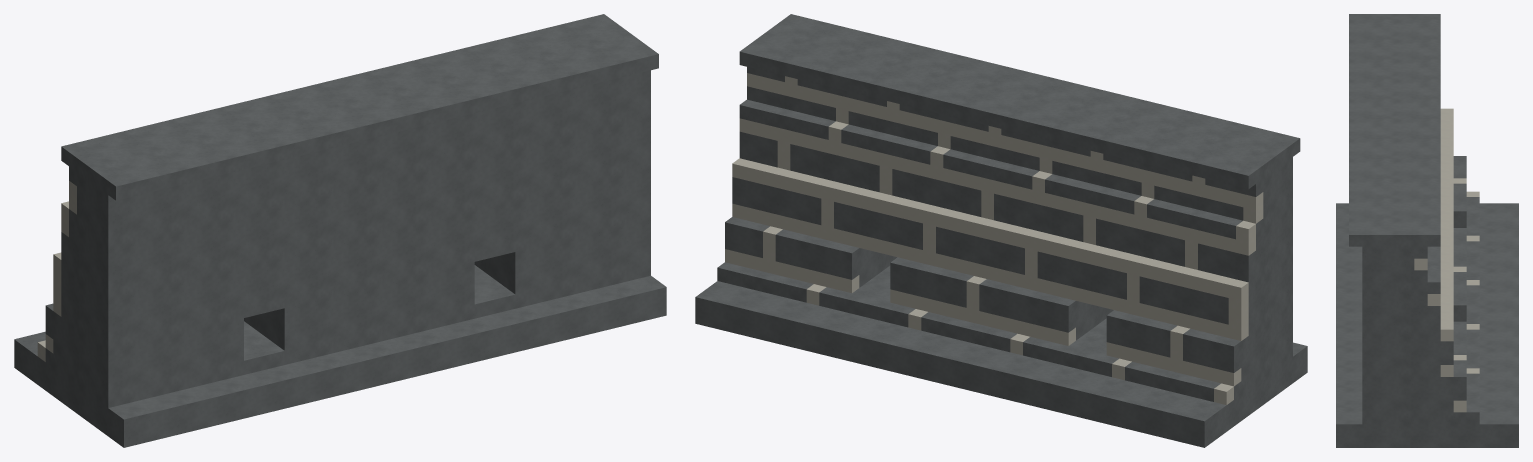
The picture shows the model from 3 angles, left to right: view 1: azimuth 30°, elevation 25°; view 2: azimuth 150°, elevation 25°; view 3: azimuth 270°, elevation 25°; orthographic projection. The views are drawn at different scales.
Visible parts, largest first — view 1: 挡墙转角高差与端头族; view 2: 挡墙转角高差与端头族; view 3: 挡墙转角高差与端头族.
Part boxes in pixels (x1,y1,x2,y2): 挡墙转角高差与端头族: [14, 14, 666, 447]; 挡墙转角高差与端头族: [695, 14, 1307, 447]; 挡墙转角高差与端头族: [1336, 14, 1518, 447].
Bounding box in the file's own units: 8 × 3.6 × 2.8.
2 materials, 2 textured.
